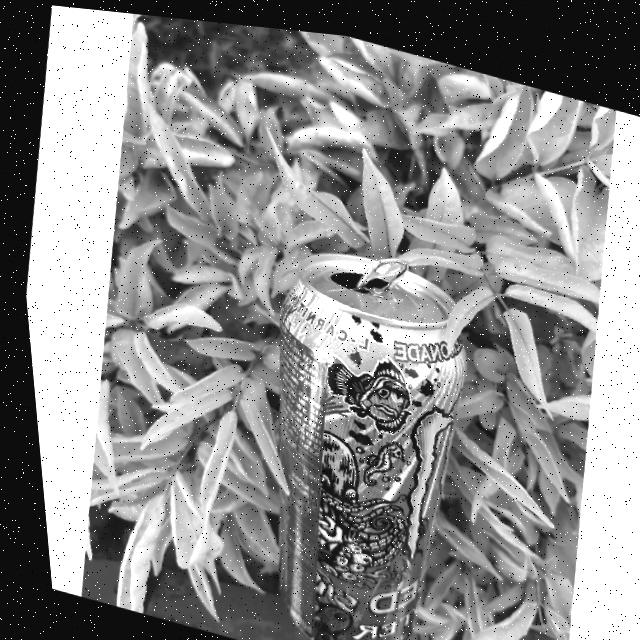Monster Aussie Lemonade: (217, 236, 491, 640)
